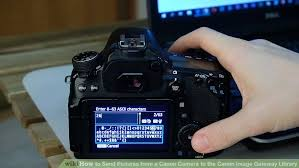camera: (71, 25, 241, 158)
